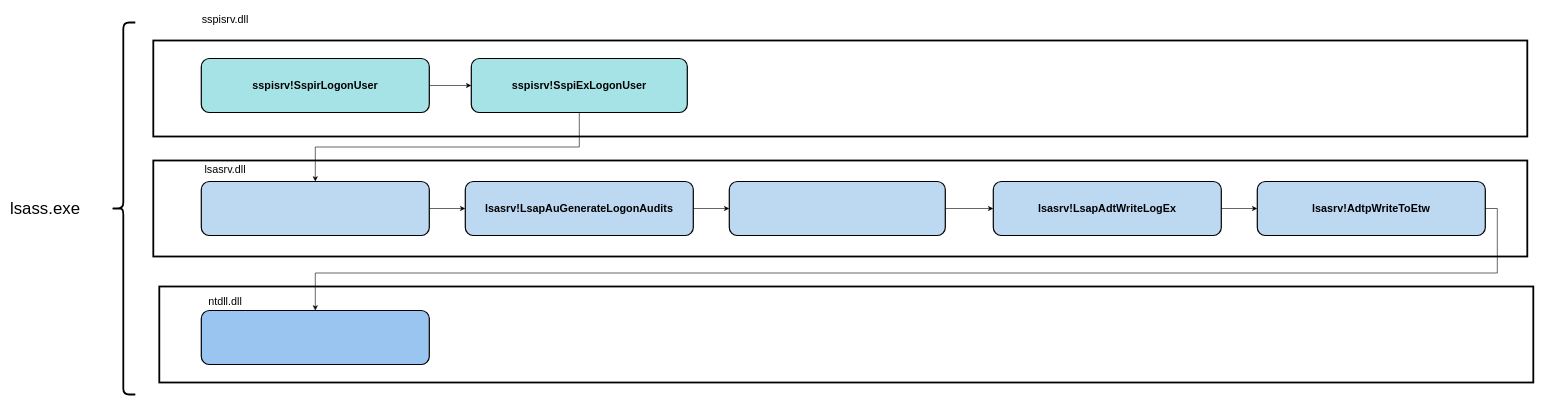
The diagram is 1544 pixels wide and 406 high, and some of its shapes have lost their labels. Here are the shapes that lost their labels. From the top down, the centre of each, then its label:
pixel 315 208: lsasrv!LsapAuApiDispatchLogonUser
pixel 837 208: lsasrv!LsaIAuditLogonUsingExplicitCred
pixel 315 337: ntdll!EtwWriteUMSecurityEvent
